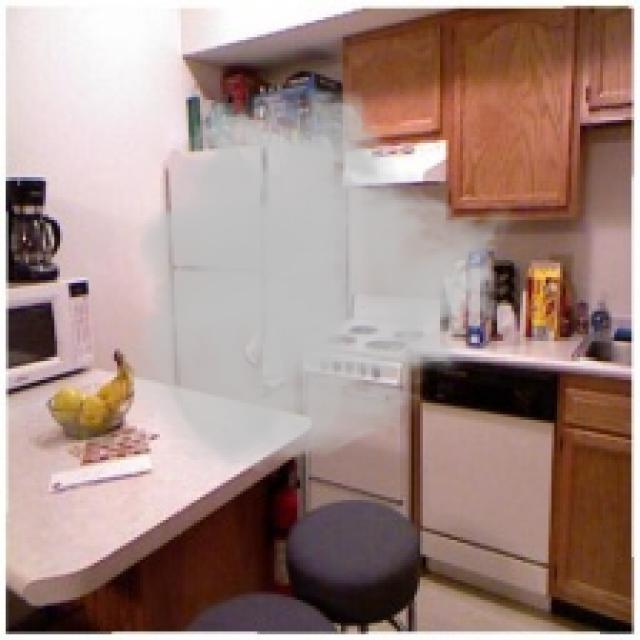smoke: (117, 83, 520, 477)
